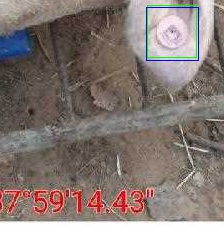text: (147, 5, 196, 57)
